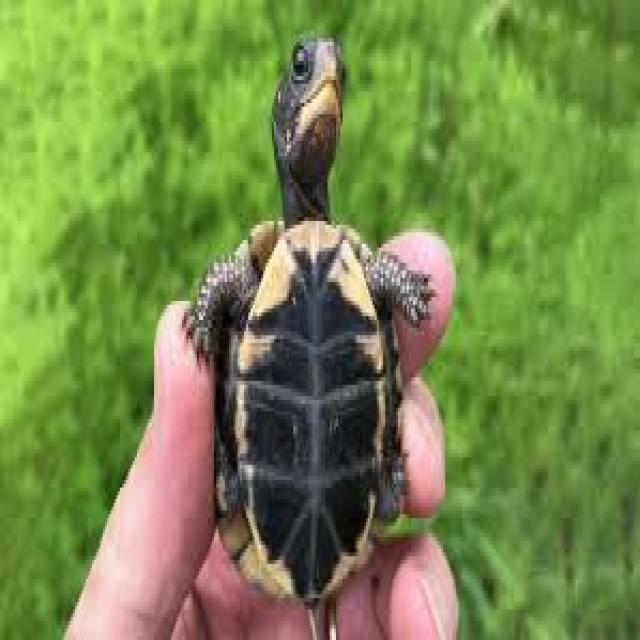turtle: (226, 20, 373, 500)
